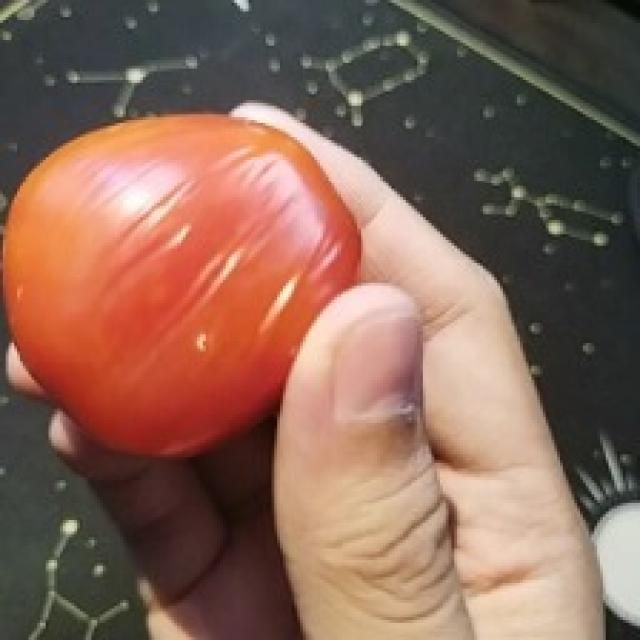Rotten Tomato: (0, 102, 382, 466)
